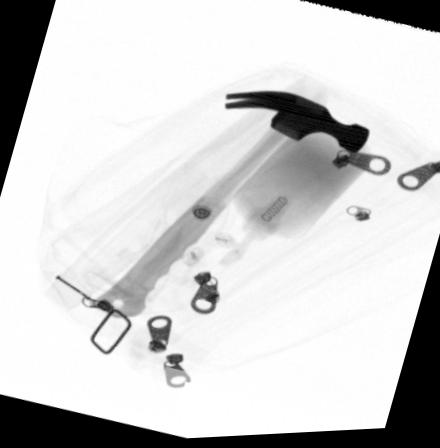Hammer: (92, 91, 373, 319)
